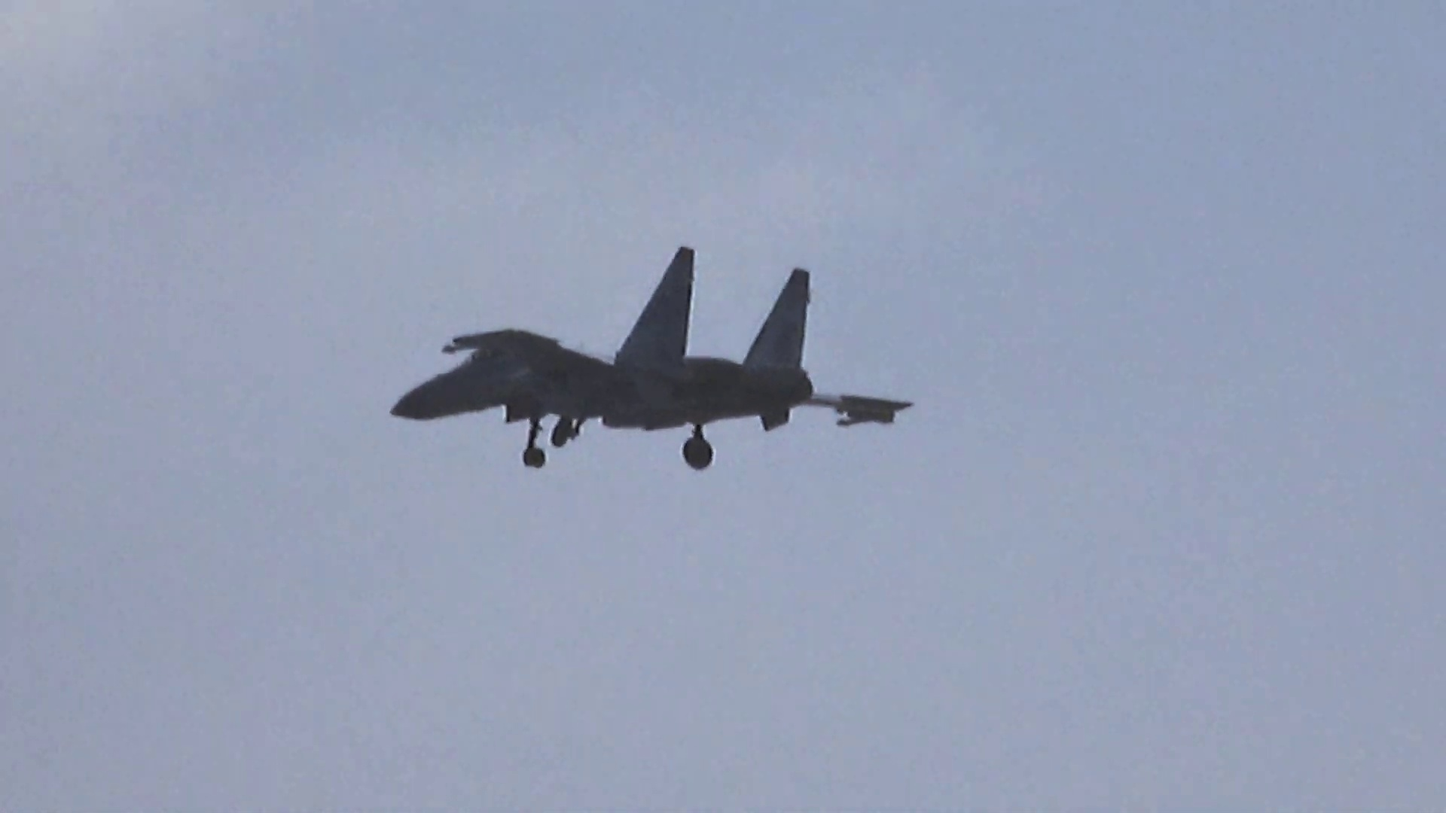Su35: (388, 245, 914, 471)
